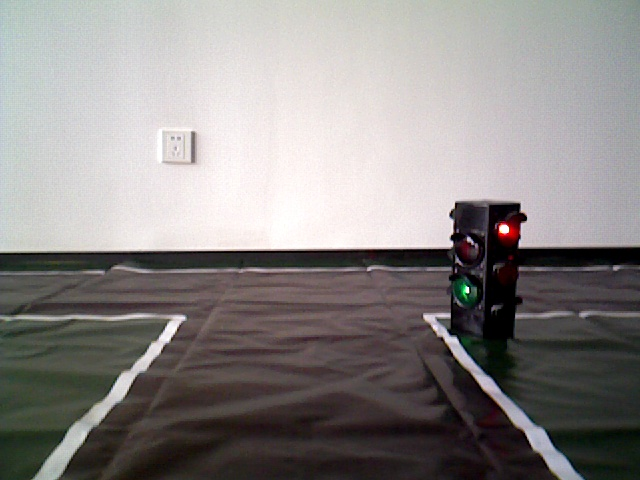red: (451, 201, 513, 334)
